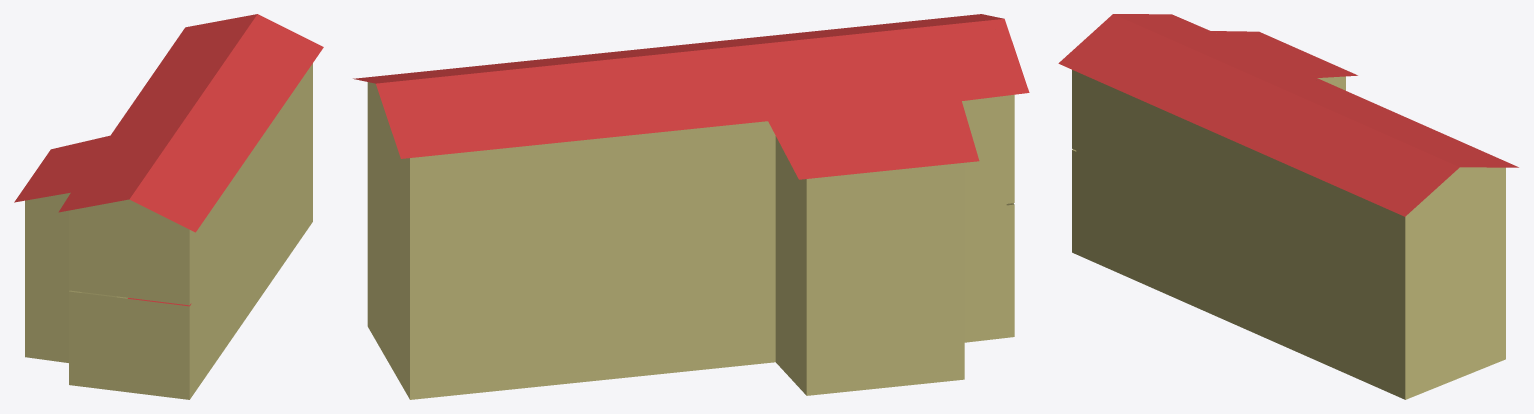
3 renders of one model, left to right at view 1: azimuth 30°, elevation 25°; view 2: azimuth 150°, elevation 25°; view 3: azimuth 270°, elevation 25°, orthographic. The views are drawn at different scales.
Parts seen in each view (by area): view 1: group_5, group_3, group_4; view 2: group_5, group_3, group_4; view 3: group_5, group_3, group_4.
Boxes of the visible parts, <box> form: group_5: <box>25,63,312,399</box>; group_3: <box>14,14,323,231</box>; group_4: <box>52,14,313,232</box>; group_5: <box>367,82,1014,399</box>; group_3: <box>353,14,1029,179</box>; group_4: <box>375,14,1004,143</box>; group_5: <box>1072,70,1505,399</box>; group_3: <box>1059,14,1518,216</box>; group_4: <box>1058,14,1459,207</box>.
Bounding box in the file's own units: 37.04 × 35.83 × 18.52.
